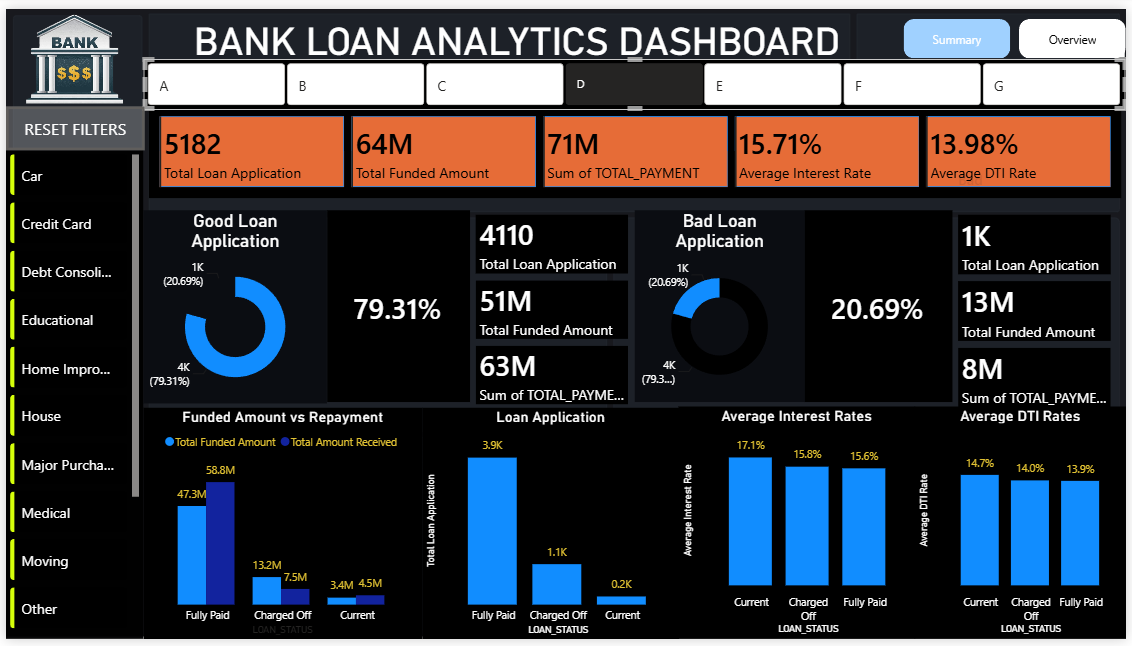

The page's visual inventory and layout, read from the dashboard file:
{"tool":"powerbi","page":{"name":"Summary","canvas":[1280,720],"ordinal":0},"visuals":[{"type":"cardVisual","fields":{"Data":["financial_loan (2).Total Loan Application","financial_loan (2).Total Funded Amount","Sum(financial_loan (2).TOTAL_PAYMENT)","financial_loan (2).Average Interest Rate","financial_loan (2).Average DTI Rate"]},"box":[158.3,105,1121.7,115],"z":0},{"type":"donutChart","title":"Good Loan Application","fields":{"Category":["financial_loan (2).Good_vs_Bad_Loan"],"Y":["financial_loan (2).Total Loan Application"]},"box":[156.8,230.4,209.9,220.8],"z":1000},{"type":"donutChart","title":"Bad Loan Application","fields":{"Category":["financial_loan (2).Good_vs_Bad_Loan"],"Y":["financial_loan (2).Total Loan Application"]},"box":[719,230.4,194.2,219.6],"z":2000},{"type":"cardVisual","fields":{"Data":["financial_loan (2).Good Loan %"]},"box":[366.8,230.4,162.9,219.6],"z":3000},{"type":"cardVisual","fields":{"Data":["financial_loan (2).Bad Loan %"]},"box":[913.3,230.4,168.9,219.6],"z":4000},{"type":"cardVisual","fields":{"Data":["financial_loan (2).Total Loan Application","financial_loan (2).Total Funded Amount","Sum(financial_loan (2).TOTAL_PAYMENT)"],"Rows":["financial_loan (2).Good_vs_Bad_Loan"]},"box":[520,140,208.3,351.7],"z":5000},{"type":"cardVisual","fields":{"Data":["financial_loan (2).Total Loan Application","financial_loan (2).Total Funded Amount","Sum(financial_loan (2).TOTAL_PAYMENT)"],"Rows":["financial_loan (2).Good_vs_Bad_Loan"]},"box":[1071.3,139.9,208.7,352.3],"z":6000},{"type":"clusteredColumnChart","title":"Funded Amount vs Repayment","fields":{"Category":["financial_loan (2).LOAN_STATUS"],"Y":["financial_loan (2).Total Funded Amount","financial_loan (2).Total Amount Received"]},"box":[156.7,455,318.3,265],"z":7000},{"type":"clusteredColumnChart","title":"Loan Application","fields":{"Category":["financial_loan (2).LOAN_STATUS"],"Y":["financial_loan (2).Total Loan Application"]},"box":[475,455,293.3,265],"z":8000},{"type":"clusteredColumnChart","title":"Average Interest Rates","fields":{"Category":["financial_loan (2).LOAN_STATUS"],"Y":["financial_loan (2).Average Interest Rate"]},"box":[768.5,454.8,270.2,265.4],"z":9000},{"type":"clusteredColumnChart","title":"Average DTI Rates","fields":{"Category":["financial_loan (2).LOAN_STATUS"],"Y":["financial_loan (2).Average DTI Rate"]},"box":[1038.7,454.8,241.3,265.4],"z":10000},{"type":"image","box":[0,0,157.1,114.3],"z":11000},{"type":"advancedSlicerVisual","fields":{"Values":["financial_loan (2).PURPOSE"]},"box":[0,161.4,157.1,558.6],"z":12000},{"type":"advancedSlicerVisual","fields":{"Values":["financial_loan (2).GRADE"]},"box":[156.7,56.7,1123.3,58.3],"z":13000},{"type":"actionButton","box":[0,111.4,158.6,50],"z":14000},{"type":"textbox","title":"BANK LOAN ANALYTICS DASHBOARD","box":[156.7,11.7,853.3,56.7],"z":15000},{"type":"pageNavigator","box":[1025,11.7,255,45],"z":16000}]}

Visuals, with their boxes in screenshot pixels (x1, y1, x2, y2), scaled from the page's 1280x720 canvas onto the 1132x646 screenshot:
cardVisual - financial_loan (2).Total Loan Application x financial_loan (2).Total Funded Amount: 140, 94, 1131, 197
"Good Loan Application" donutChart: 139, 207, 324, 405
"Bad Loan Application" donutChart: 636, 207, 808, 404
cardVisual - financial_loan (2).Good Loan %: 324, 207, 468, 404
cardVisual - financial_loan (2).Bad Loan %: 808, 207, 957, 404
cardVisual - financial_loan (2).Total Loan Application x financial_loan (2).Total Funded Amount: 460, 126, 644, 441
cardVisual - financial_loan (2).Total Loan Application x financial_loan (2).Total Funded Amount: 947, 126, 1131, 442
"Funded Amount vs Repayment" clusteredColumnChart: 139, 408, 420, 645
"Loan Application" clusteredColumnChart: 420, 408, 679, 645
"Average Interest Rates" clusteredColumnChart: 680, 408, 919, 645
"Average DTI Rates" clusteredColumnChart: 919, 408, 1131, 645
image: 0, 0, 139, 103
advancedSlicerVisual - financial_loan (2).PURPOSE: 0, 145, 139, 645
advancedSlicerVisual - financial_loan (2).GRADE: 139, 51, 1131, 103
actionButton: 0, 100, 140, 145
"BANK LOAN ANALYTICS DASHBOARD" textbox: 139, 10, 893, 61
pageNavigator: 906, 10, 1131, 51
